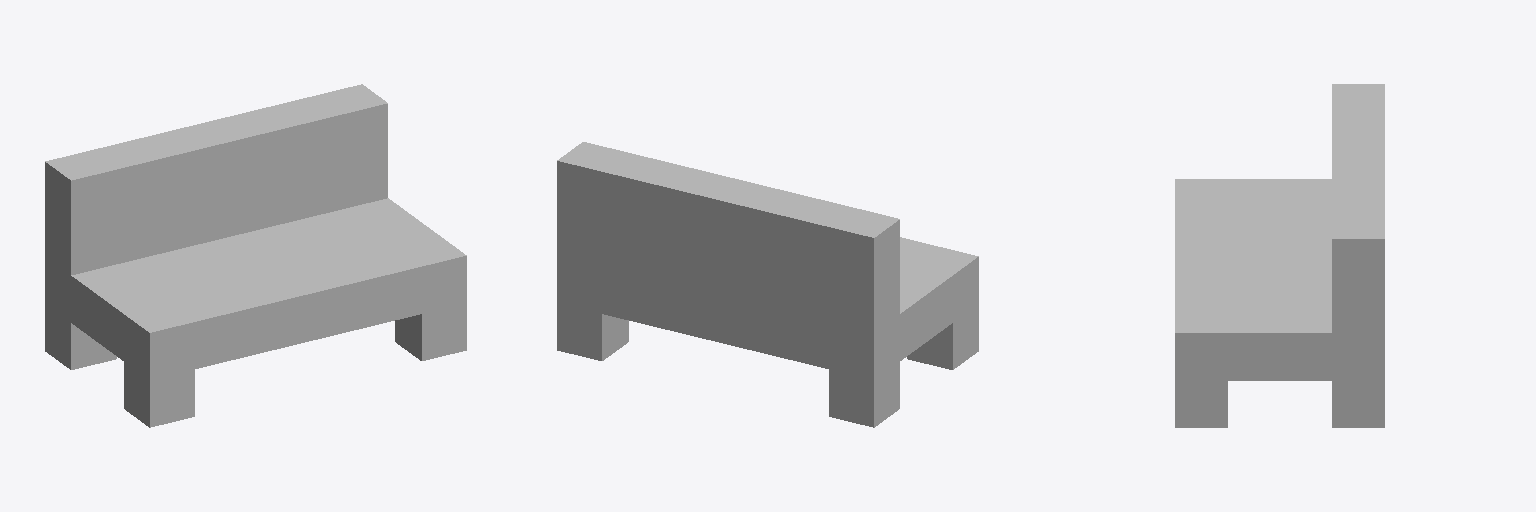
The model's file is couch_-_converted.obj.
3 renders of one model, left to right at view 1: azimuth 30°, elevation 25°; view 2: azimuth 150°, elevation 25°; view 3: azimuth 270°, elevation 25°, orthographic.
Parts seen in each view (by area): view 1: cube; view 2: cube; view 3: cube.
Part boxes in pixels (x1,y1,x2,y2): cube: (45,84,466,427); cube: (557,142,978,427); cube: (1175,84,1384,427).
Size of the model in its own units: 0.4375 by 0.25 by 0.25.